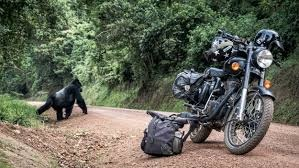gorilla: (35, 76, 89, 121)
